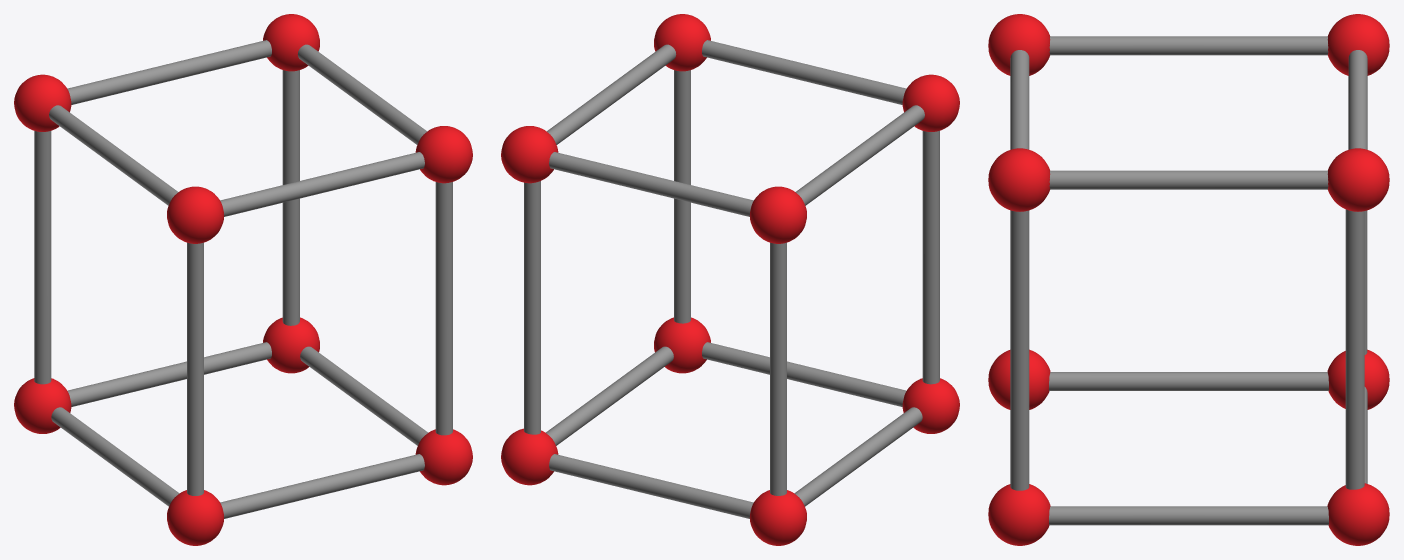
3 renders of one model, left to right at view 1: azimuth 30°, elevation 25°; view 2: azimuth 150°, elevation 25°; view 3: azimuth 270°, elevation 25°, orthographic. The views are drawn at different scales.
Visible parts, largest first — view 1: Цилиндр_Node (×12), Сферы_Node (×8); view 2: Цилиндр_Node (×12), Сферы_Node (×8); view 3: Цилиндр_Node (×9), Сферы_Node (×8).
Part boxes in pixels (box(x1,y1,x2,y2)): Цилиндр_Node (×12): box(34, 40, 452, 518); Сферы_Node (×8): box(14, 14, 472, 545); Цилиндр_Node (×12): box(524, 40, 939, 518); Сферы_Node (×8): box(501, 14, 959, 545); Цилиндр_Node (×9): box(1010, 36, 1367, 525); Сферы_Node (×8): box(988, 14, 1389, 545).
Bounding box in the file's own units: 2.36 × 2.68 × 2.48.
Materials: 13 (1 with a texture image).
